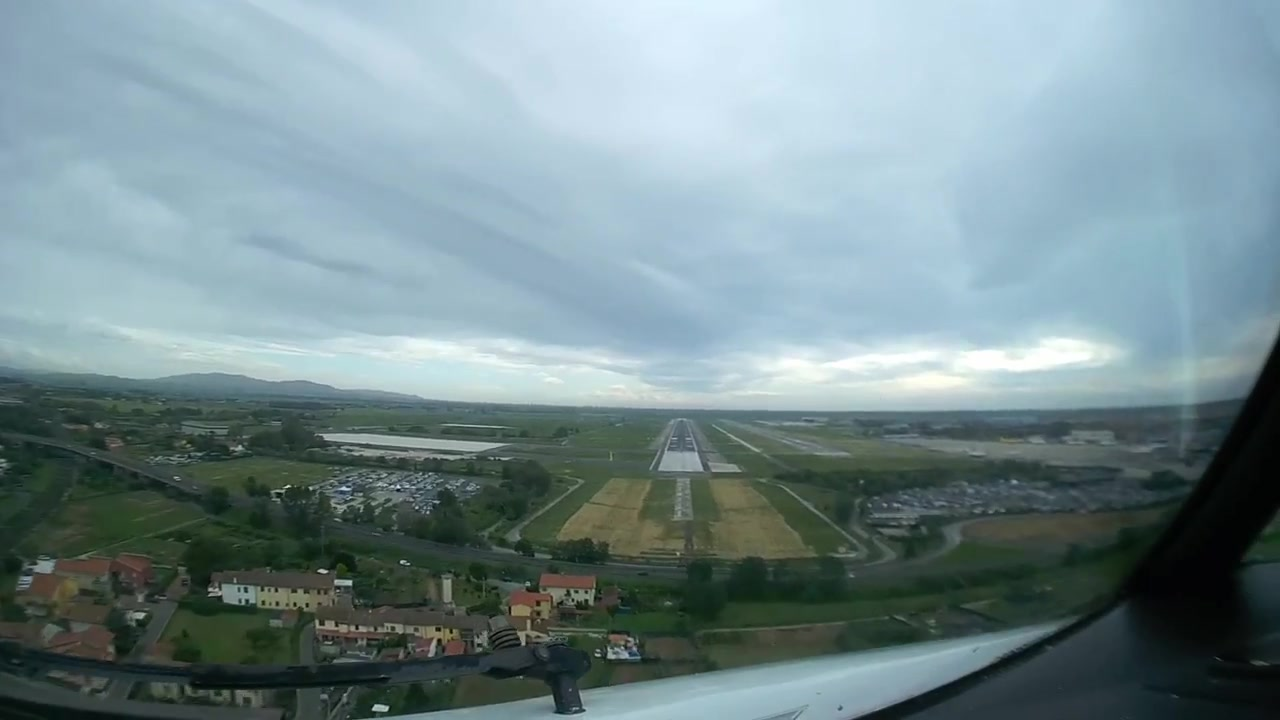runway: (660, 416, 700, 458)
